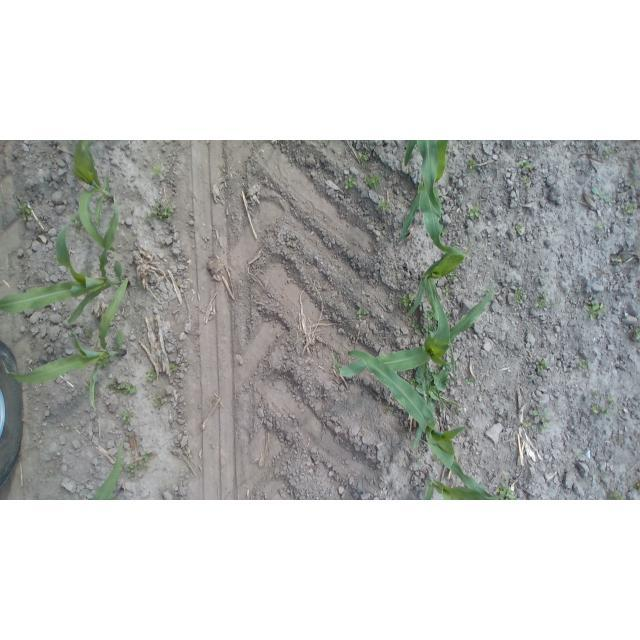Maize: (346, 346, 494, 498), (333, 278, 500, 382), (0, 197, 132, 327), (3, 277, 132, 410), (392, 141, 467, 259), (409, 244, 468, 362), (72, 141, 122, 256), (81, 440, 129, 500), (418, 470, 510, 500)
Weeds: (414, 361, 454, 415), (144, 197, 177, 223), (521, 406, 551, 432), (494, 471, 519, 499), (106, 380, 141, 396), (584, 300, 606, 321), (410, 426, 427, 451), (422, 310, 439, 334), (363, 170, 382, 189), (375, 197, 394, 215), (395, 292, 415, 309), (591, 188, 610, 204), (590, 402, 609, 418), (151, 390, 169, 406), (17, 202, 32, 221), (150, 163, 167, 179), (467, 205, 483, 222), (535, 357, 551, 374), (535, 291, 549, 310), (605, 489, 626, 500), (343, 174, 357, 190), (357, 149, 372, 163), (70, 211, 83, 227), (576, 358, 590, 372), (146, 367, 159, 382), (513, 222, 526, 236), (354, 307, 368, 320), (520, 160, 533, 173), (441, 284, 454, 297), (515, 288, 525, 304), (122, 412, 134, 425), (627, 178, 640, 190), (126, 463, 136, 478), (465, 158, 475, 173), (624, 202, 635, 215), (603, 146, 616, 157), (447, 272, 460, 283), (83, 327, 94, 339), (409, 322, 419, 335), (167, 363, 180, 373), (180, 358, 192, 368), (522, 175, 531, 188), (606, 396, 617, 406), (140, 453, 152, 461), (596, 220, 606, 229), (592, 390, 601, 400), (138, 462, 149, 470), (634, 326, 640, 339), (184, 451, 193, 459)
